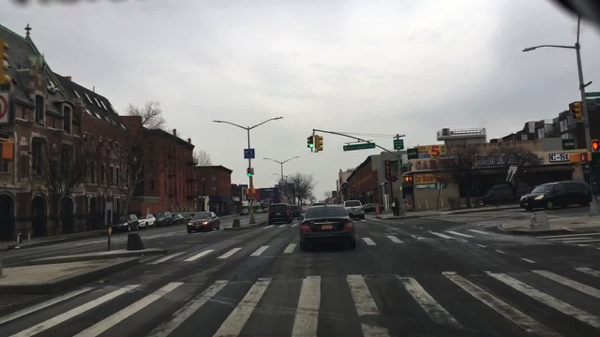car: (298, 205, 356, 252), (519, 181, 593, 210), (185, 212, 221, 233), (107, 215, 139, 232), (343, 201, 365, 222), (363, 202, 386, 215), (155, 212, 174, 227), (137, 214, 155, 229), (287, 204, 301, 217), (172, 215, 184, 224), (300, 205, 312, 213), (262, 205, 271, 213), (240, 208, 249, 215), (341, 189, 346, 197)
person: (391, 195, 399, 219)
traffic light: (0, 38, 11, 88), (2, 140, 15, 159), (573, 101, 582, 121), (579, 151, 592, 164), (316, 137, 325, 152), (570, 153, 579, 164), (594, 137, 598, 156), (308, 135, 313, 150), (403, 176, 412, 184), (246, 168, 252, 177), (350, 186, 357, 193), (316, 150, 324, 152)
traffic sign: (0, 90, 11, 124), (343, 143, 376, 151), (244, 148, 255, 160), (394, 140, 404, 151), (583, 92, 599, 97)
truck: (478, 185, 527, 206)
